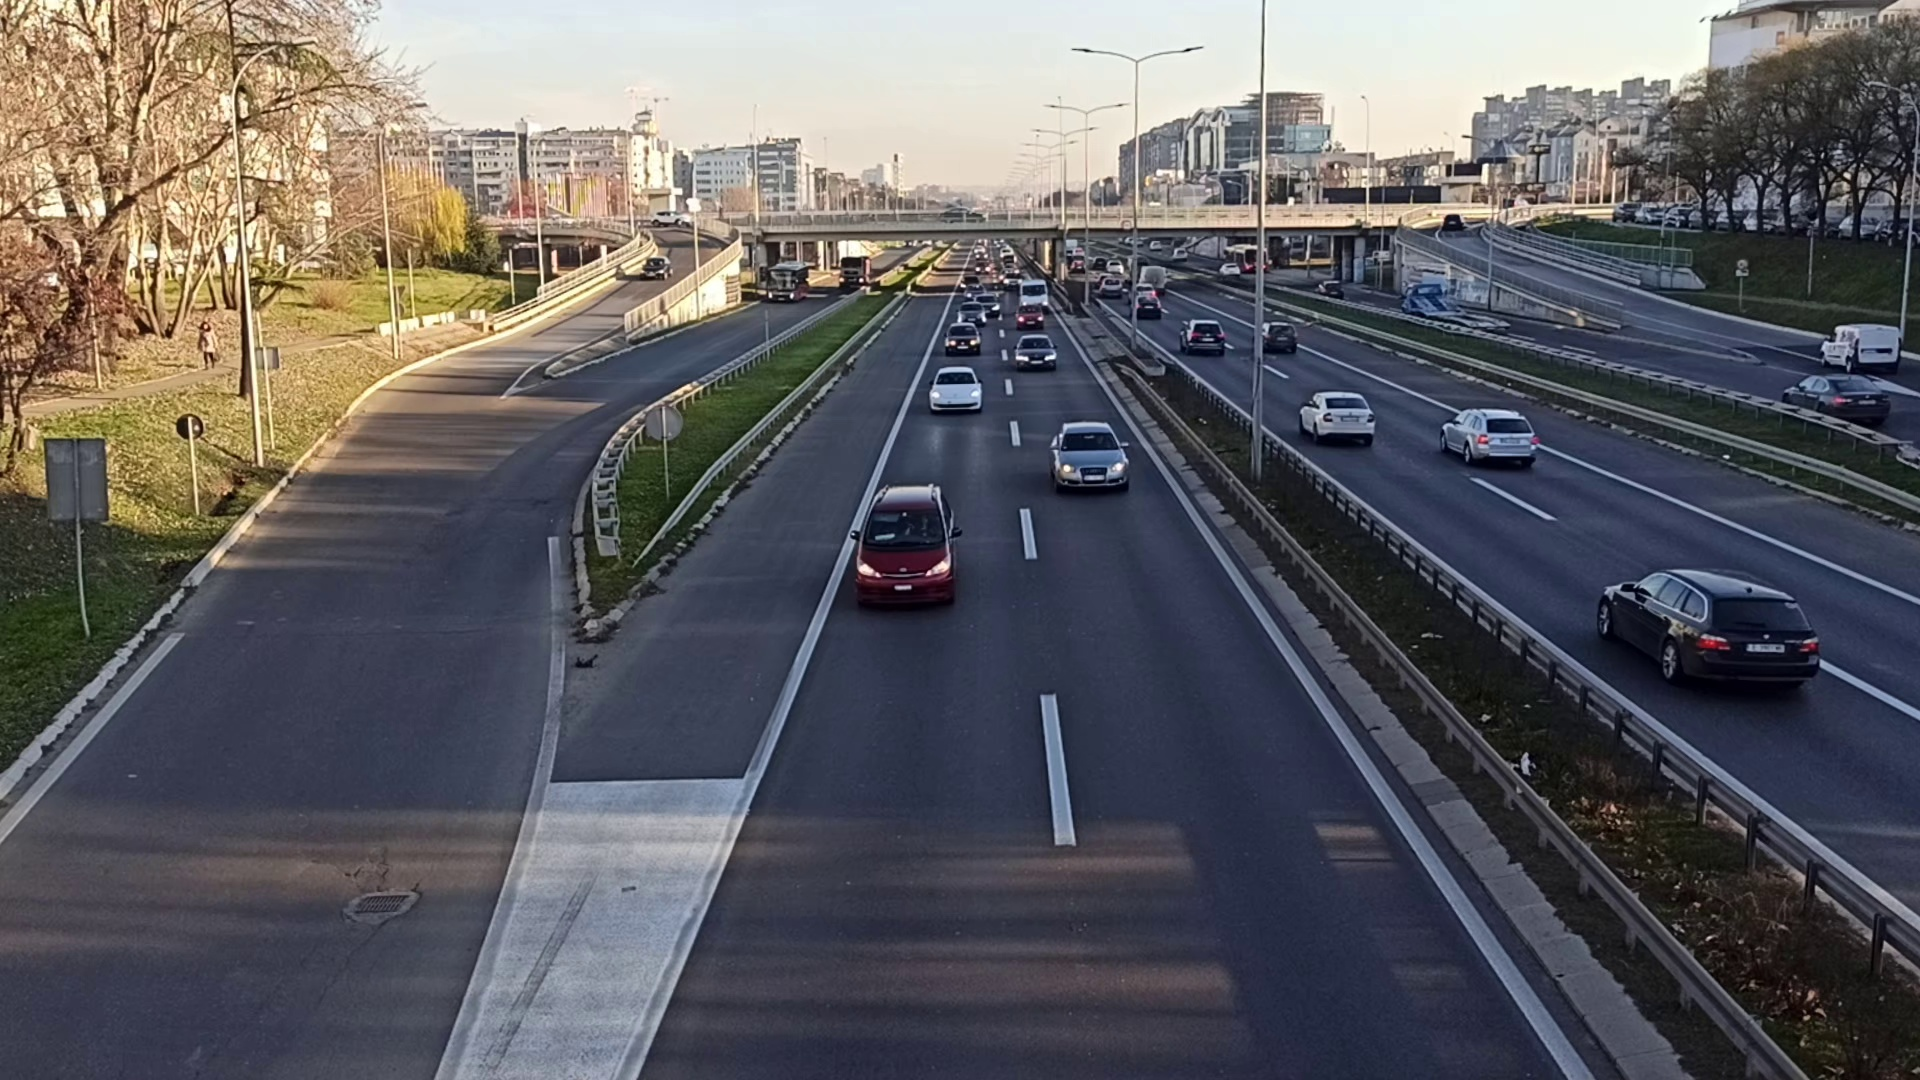car: (1588, 556, 1829, 704), (851, 477, 963, 612), (1044, 415, 1135, 498), (1433, 404, 1539, 472), (1291, 389, 1383, 448), (926, 364, 982, 415), (1175, 320, 1226, 359), (1013, 335, 1060, 373)
